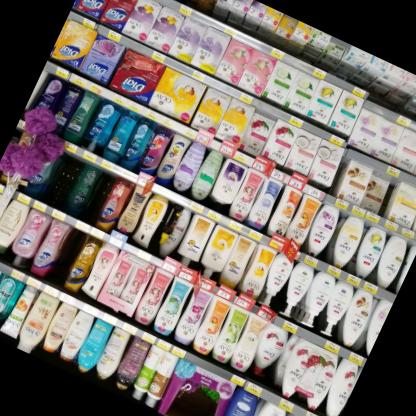empty_space: (37, 143, 88, 212), (47, 219, 90, 289), (79, 158, 121, 225)
